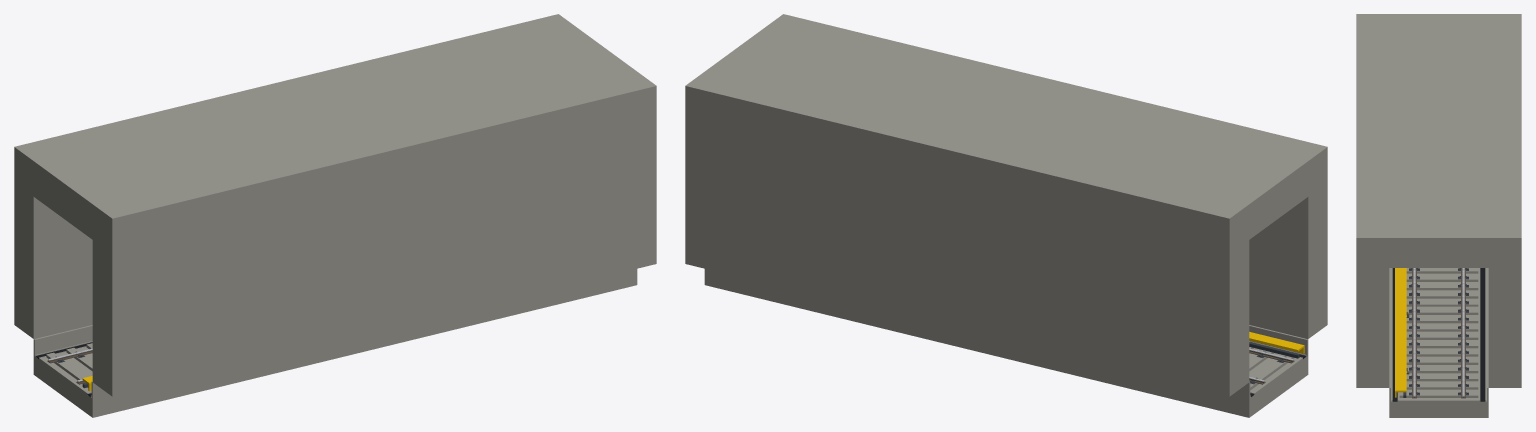
File: TrackTunnel.glb
The picture shows the model from 3 angles, left to right: view 1: azimuth 30°, elevation 25°; view 2: azimuth 150°, elevation 25°; view 3: azimuth 270°, elevation 25°; orthographic projection. The views are drawn at different scales.
Visible parts, largest first — view 1: tunnel-shell-wall, tunnel-shell-roof, track-bed, tunnel-shell-portal, track-trench-wall, track-tunnel-waysideconcrete-001; view 2: tunnel-shell-wall, tunnel-shell-roof, track-bed, tunnel-shell-portal, track-tunnel-waysideconcrete-001; view 3: tunnel-shell-roof, tunnel-shell-portal, concrete sleepers, track-tunnel-waysideconcrete-001, track-bed, third-rail-guard, track-tunnel-black-009, track-running-rail (×2), rail seats, track-trench-wall (×2), track-tunnel-trackrailweb-002, track-tunnel-trackrailweb-004 (+5 smaller).
Part boxes in pixels (x1=…): tunnel-shell-wall: x1=33, y1=86, x2=656, y2=396; tunnel-shell-roof: x1=14, y1=14, x2=656, y2=218; track-bed: x1=33, y1=269, x2=637, y2=417; tunnel-shell-portal: x1=14, y1=147, x2=112, y2=396; track-trench-wall: x1=33, y1=325, x2=92, y2=355; track-tunnel-waysideconcrete-001: x1=39, y1=347, x2=92, y2=394; tunnel-shell-wall: x1=685, y1=86, x2=1308, y2=396; tunnel-shell-roof: x1=685, y1=14, x2=1327, y2=218; track-bed: x1=704, y1=269, x2=1308, y2=417; tunnel-shell-portal: x1=1229, y1=147, x2=1327, y2=396; track-tunnel-waysideconcrete-001: x1=1249, y1=348, x2=1302, y2=394; tunnel-shell-roof: x1=1356, y1=14, x2=1521, y2=237; tunnel-shell-portal: x1=1356, y1=238, x2=1521, y2=387; concrete sleepers: x1=1399, y1=268, x2=1478, y2=397; track-tunnel-waysideconcrete-001: x1=1398, y1=268, x2=1479, y2=401; track-bed: x1=1389, y1=268, x2=1488, y2=417; third-rail-guard: x1=1395, y1=268, x2=1406, y2=392; track-tunnel-black-009: x1=1480, y1=268, x2=1485, y2=401; track-running-rail (×2): x1=1413, y1=268, x2=1464, y2=396; rail seats: x1=1409, y1=268, x2=1468, y2=395; track-trench-wall (×2): x1=1389, y1=268, x2=1488, y2=401; track-tunnel-trackrailweb-002: x1=1412, y1=268, x2=1416, y2=398; track-tunnel-trackrailweb-004: x1=1461, y1=268, x2=1465, y2=398.
Size of the model in its own units: 16 by 6 by 5.
7 materials, 1 textured.
